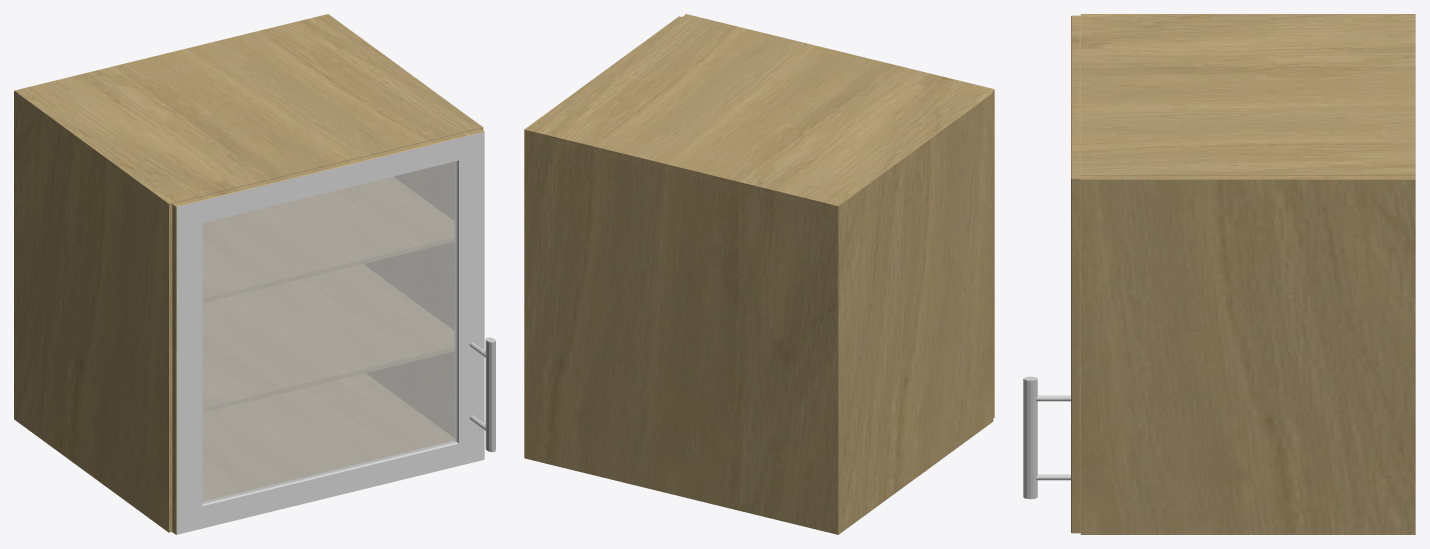
The model's file is sh-bs0-glass-door-cabinet.glb.
3 views of the same model, side by side, from view 1: azimuth 30°, elevation 25°; view 2: azimuth 150°, elevation 25°; view 3: azimuth 270°, elevation 25° (orthographic). The views are drawn at different scales.
Visible parts, largest first — view 1: Cube.007_Cube.008; view 2: Cube.007_Cube.008; view 3: Cube.007_Cube.008.
Part boxes in pixels (x1,y1,x2,y2): Cube.007_Cube.008: (14, 14, 495, 534); Cube.007_Cube.008: (524, 14, 994, 534); Cube.007_Cube.008: (1023, 14, 1415, 534).
Size of the model in its own units: 1 by 1 by 1.
Materials: 4 (1 with a texture image).
